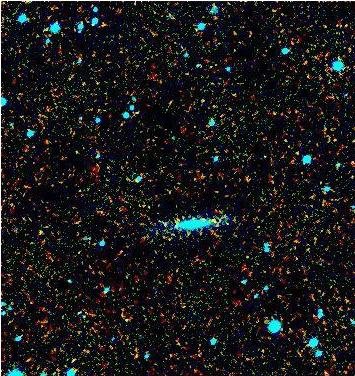star: (197, 207, 227, 237)
